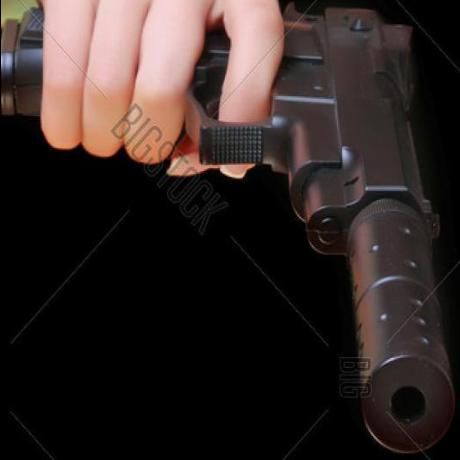1: (41, 0, 292, 178)
weapon: (115, 13, 455, 454)
